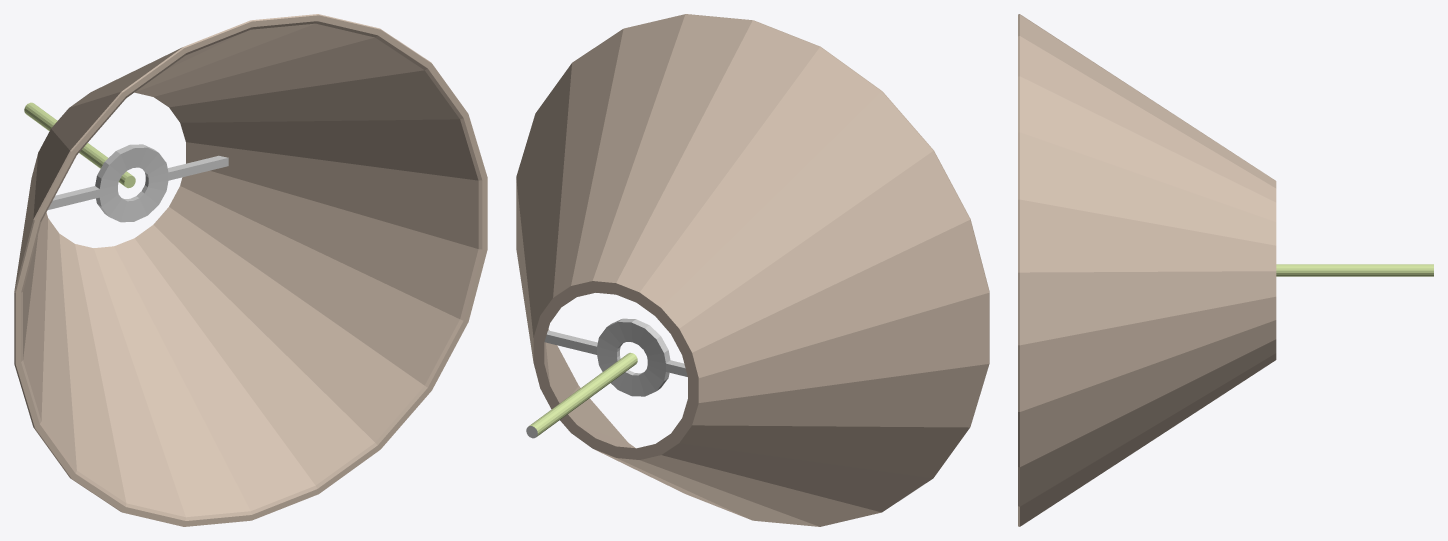
The model's file is CeilingLight.fbx.
The picture shows the model from 3 angles, left to right: view 1: azimuth 30°, elevation 25°; view 2: azimuth 150°, elevation 25°; view 3: azimuth 270°, elevation 25°; orthographic projection. The views are drawn at different scales.
Parts seen in each view (by area): view 1: HangingLight; view 2: HangingLight; view 3: HangingLight.
Boxes of the visible parts, <box> form: HangingLight: <box>14,14,487,526</box>; HangingLight: <box>516,14,989,526</box>; HangingLight: <box>1018,14,1433,526</box>.
Bounding box in the file's own units: 36.48 × 36.86 × 29.6.
